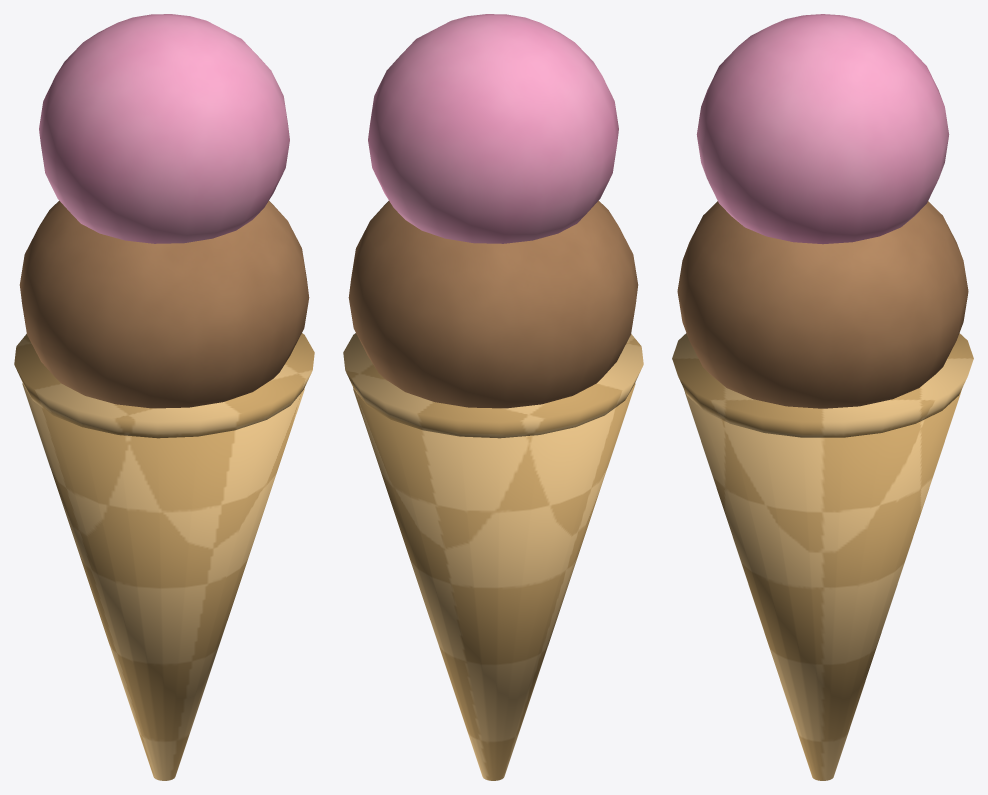
Rendered from es_krim.fbx.
The picture shows the model from 3 angles, left to right: view 1: azimuth 30°, elevation 25°; view 2: azimuth 150°, elevation 25°; view 3: azimuth 270°, elevation 25°; orthographic projection.
Visible parts, largest first — view 1: es_krim; view 2: es_krim; view 3: es_krim.
Boxes of the visible parts, left/top/right/bottom form: es_krim: left=14, top=14, right=314, bottom=780; es_krim: left=343, top=14, right=643, bottom=780; es_krim: left=672, top=14, right=973, bottom=780.
Size of the model in its own units: 10.89 by 30.17 by 11.
Materials: 1 (1 with a texture image).
